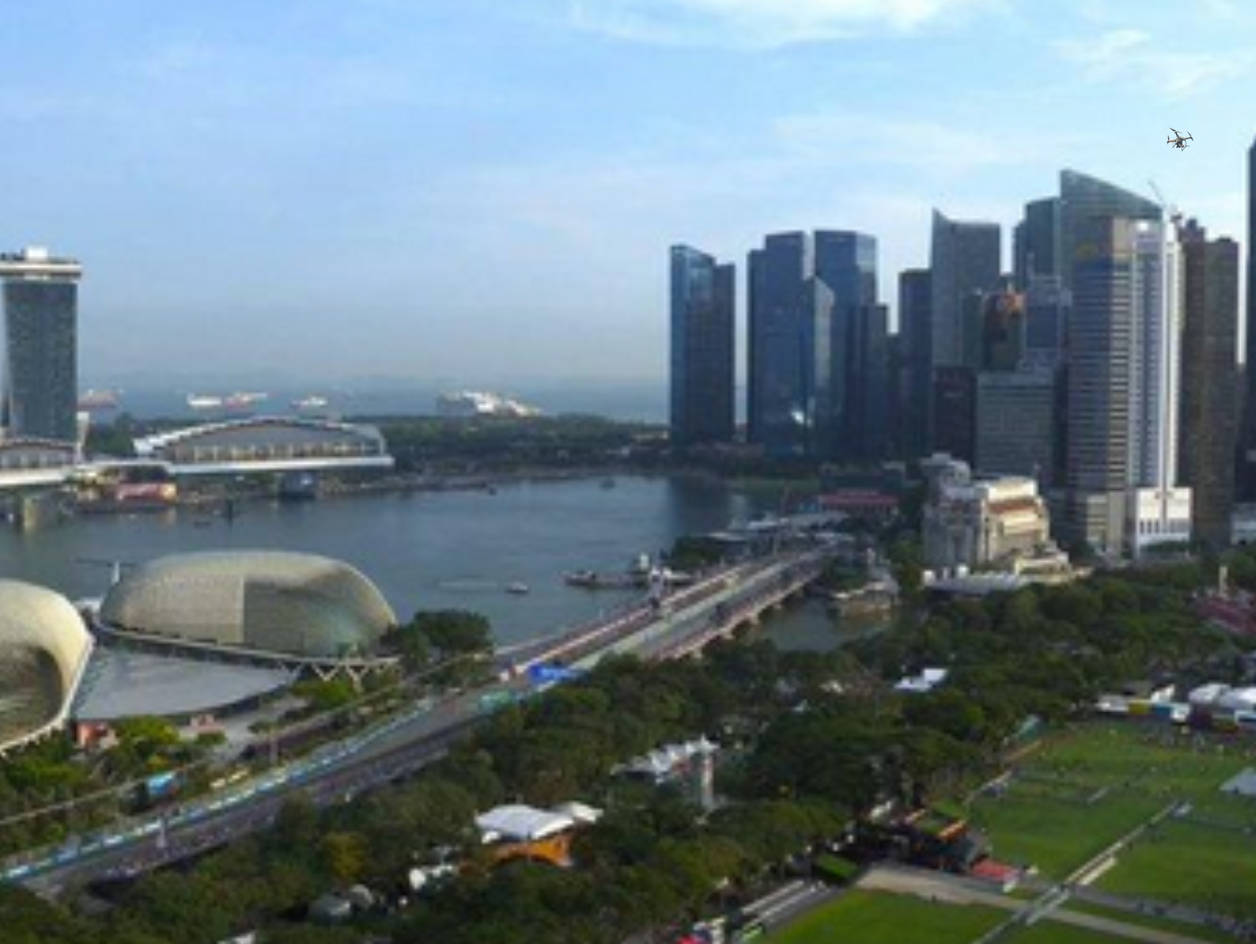drone_other: (1166, 127, 1194, 152)
